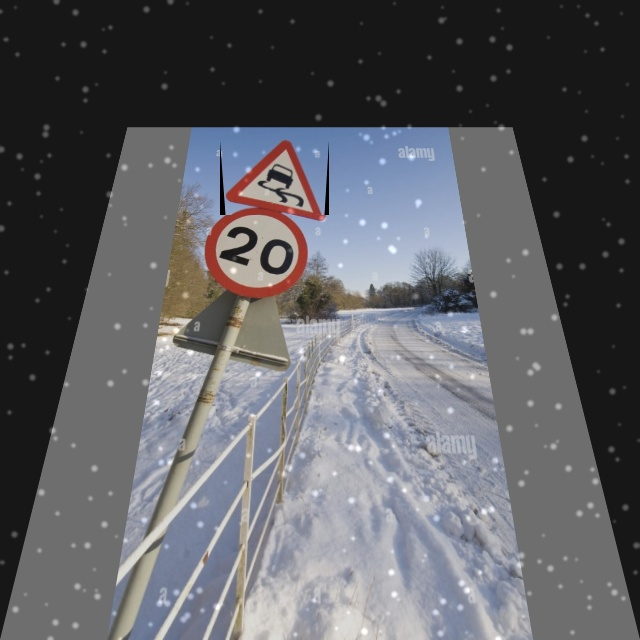Slippery_Road: (220, 140, 329, 215)
